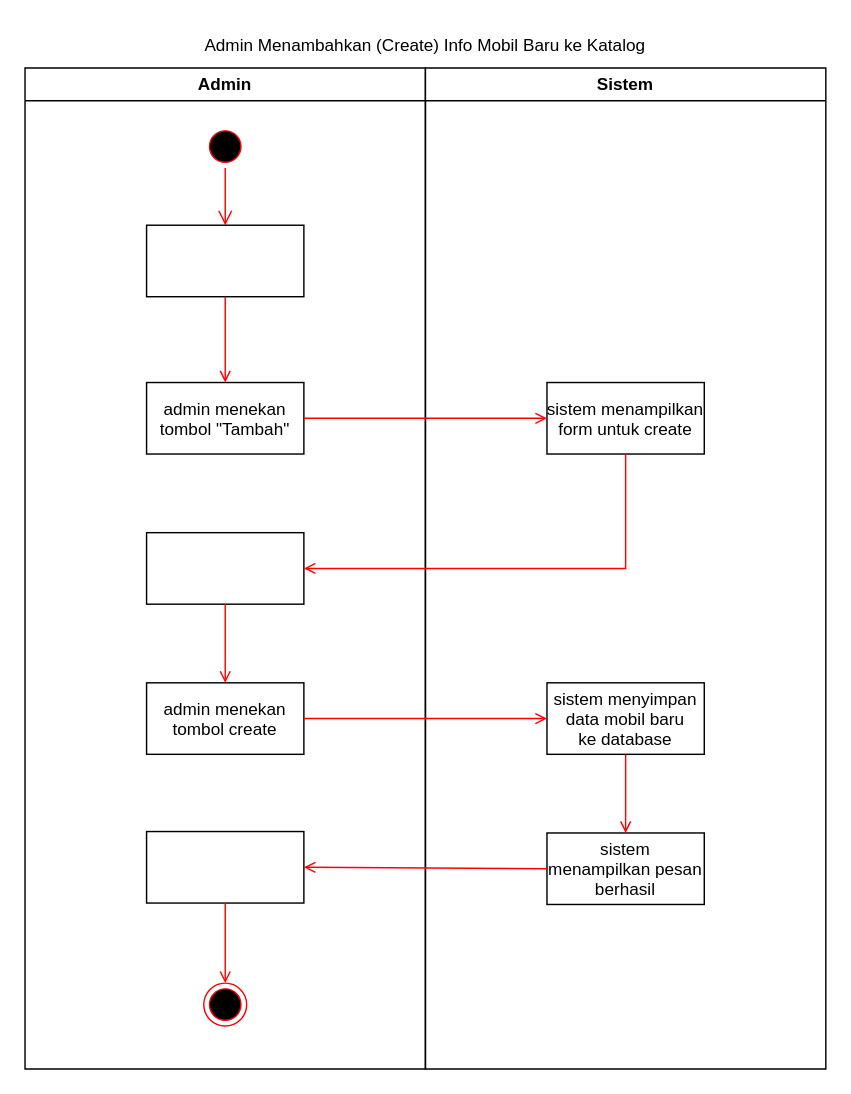
This 851x1094 diagram has some shape labels left out. The shapes that lost their labels are listed below. From the top down, each one's centre as x and y in pixels, then its label:
pixel 224 260: admin mengakses halaman dashboard admin
pixel 224 567: admin mengisi data mobil baru pada form create
pixel 224 866: user melihat pesan penambahan data mobil baru berhasil
